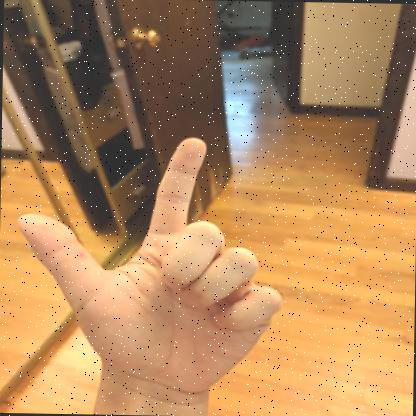L: (17, 137, 282, 387)
